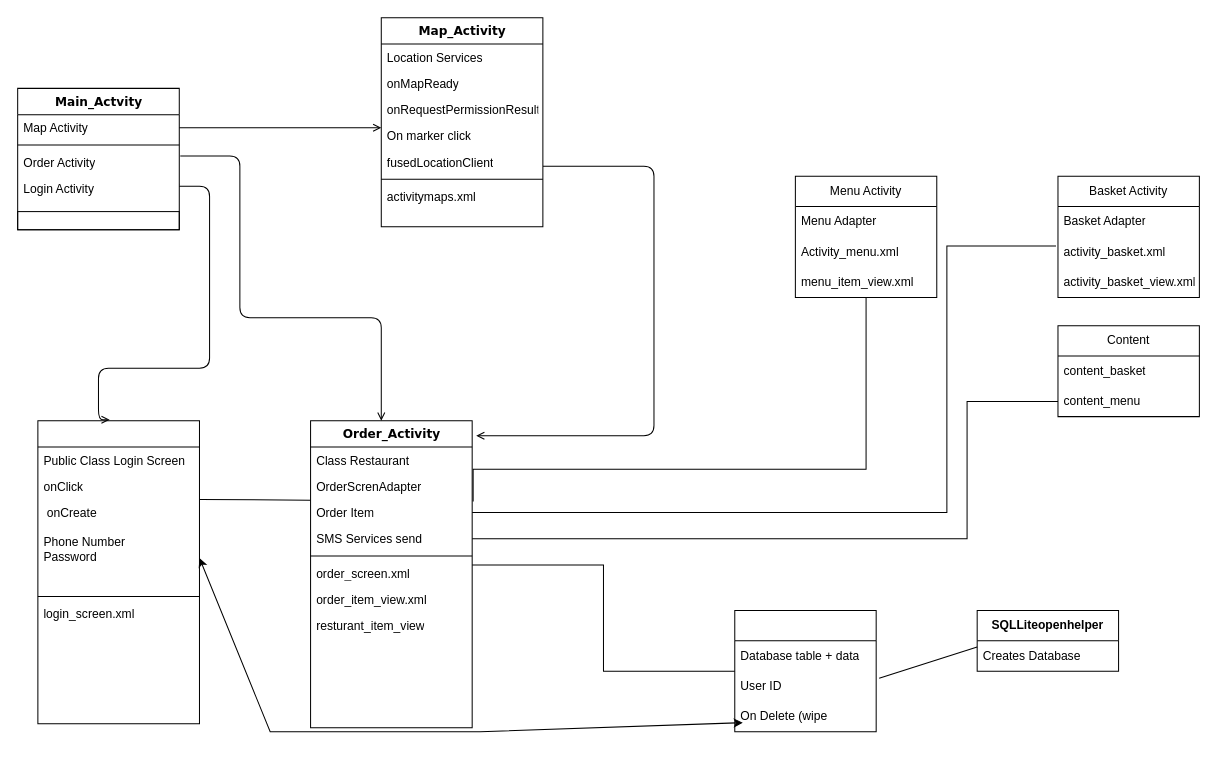
Image size: 1217x759. Some labels were removed from this diagram. Here are the shapes that lost their labels. From the top down, the box of each, then its label:
(17, 211, 179, 230): Mainactivity.xml
(37, 420, 199, 724): Login_Activity
(734, 610, 876, 732): MyDatabaseHelper
